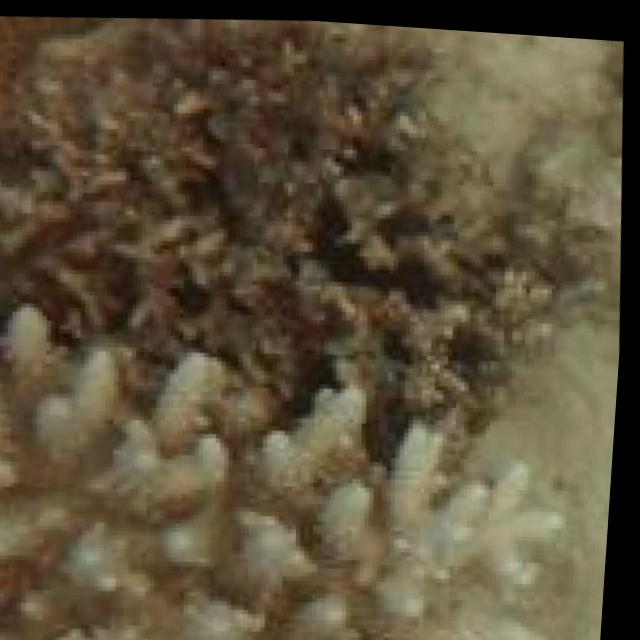Bleached Coral: (0, 299, 624, 640)
Dead Coral: (0, 3, 617, 391)
